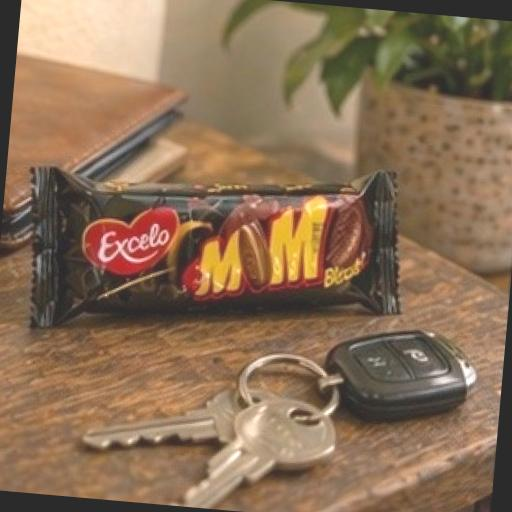MOMO: (0, 104, 430, 384)
